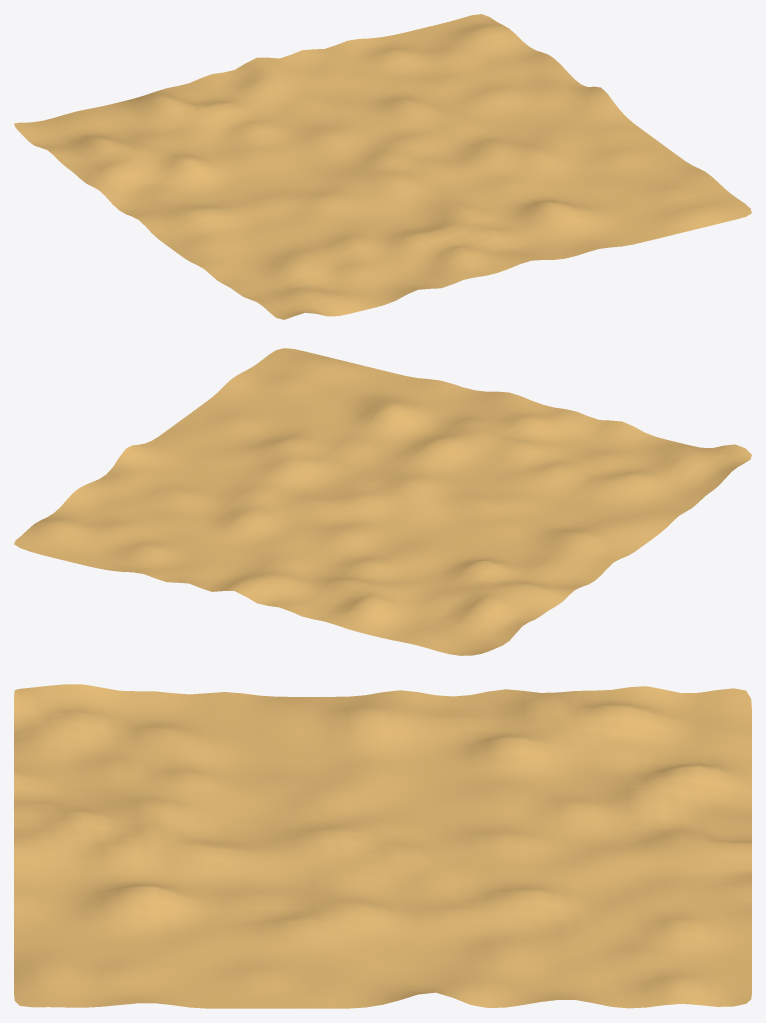
File: water.fbx
3 views of the same model, one above another, from view 1: azimuth 30°, elevation 25°; view 2: azimuth 150°, elevation 25°; view 3: azimuth 270°, elevation 25° (orthographic). The views are drawn at different scales.
Visible parts, largest first — view 1: Plane; view 2: Plane; view 3: Plane.
Part boxes in pixels (x1=…): Plane: x1=14, y1=14, x2=751, y2=319; Plane: x1=14, y1=348, x2=751, y2=655; Plane: x1=14, y1=684, x2=751, y2=1008.
Size of the model in its own units: 1203 by 35.03 by 1203.
